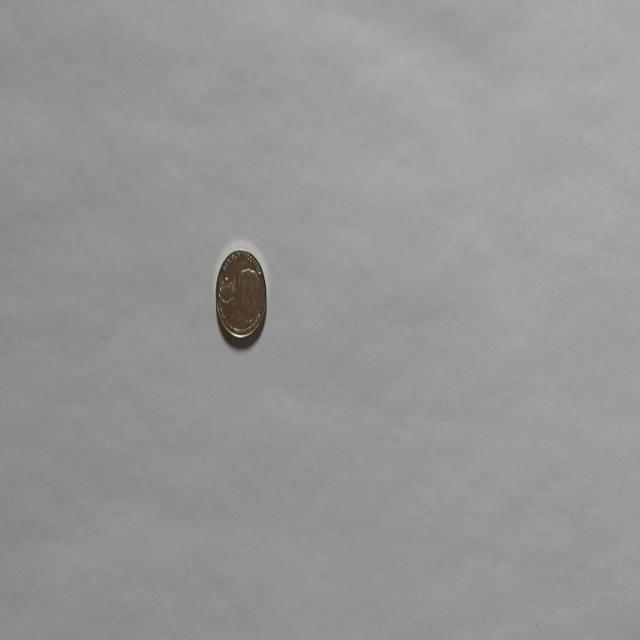seratus rupiah: (215, 247, 268, 342)
